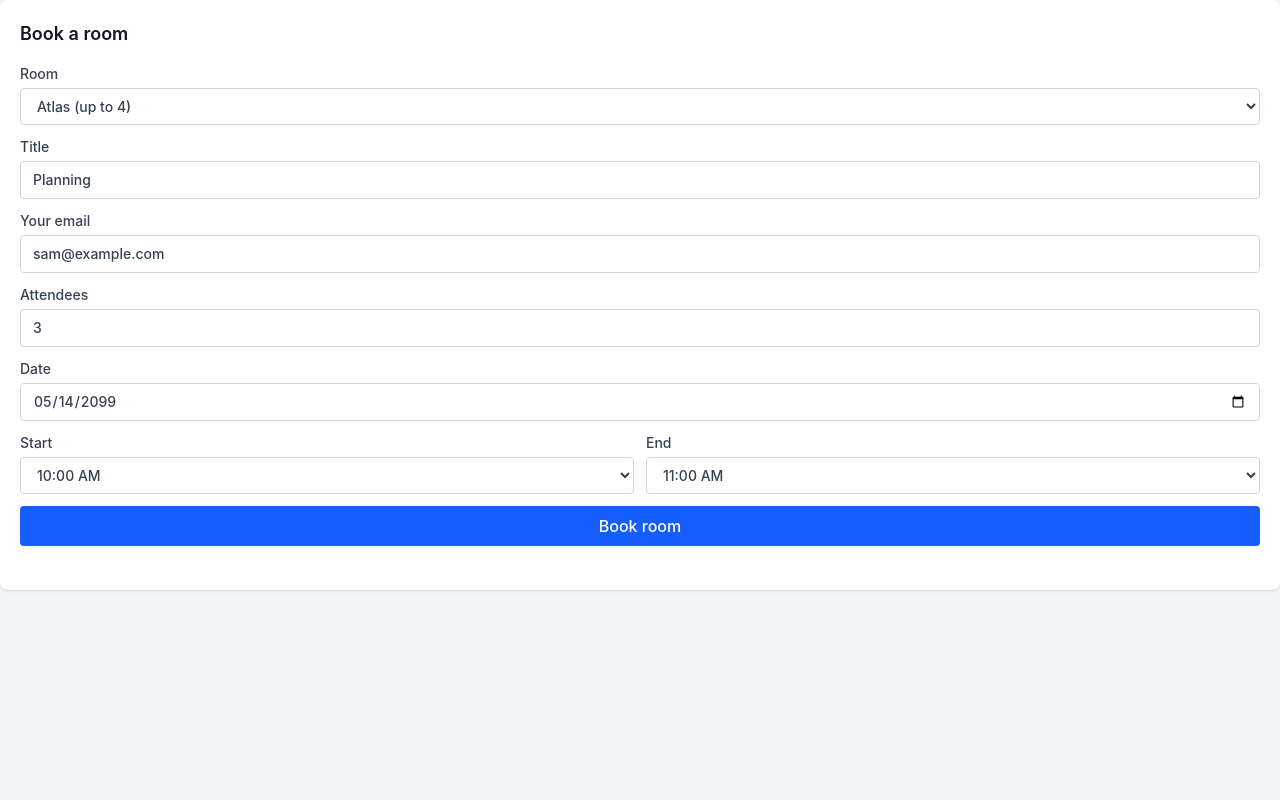
Scenario: BookingForm › shows the message from the server when the booking is rejected
Click the button "Book room": [640, 526] box x1=20 y1=506 x2=1260 y2=546
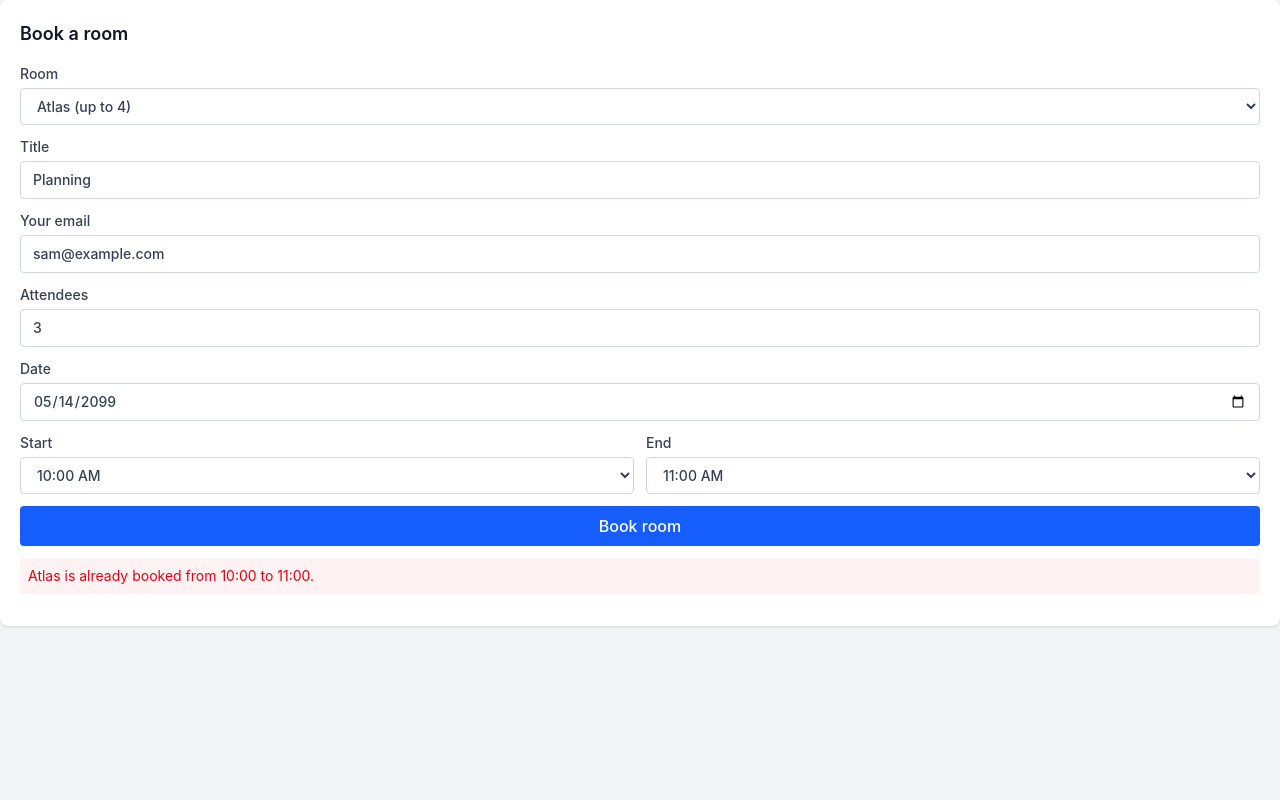
Check: the message reads "Atlas is already booked from 10:00 to 11:00.", box x1=28 y1=567 x2=314 y2=584
